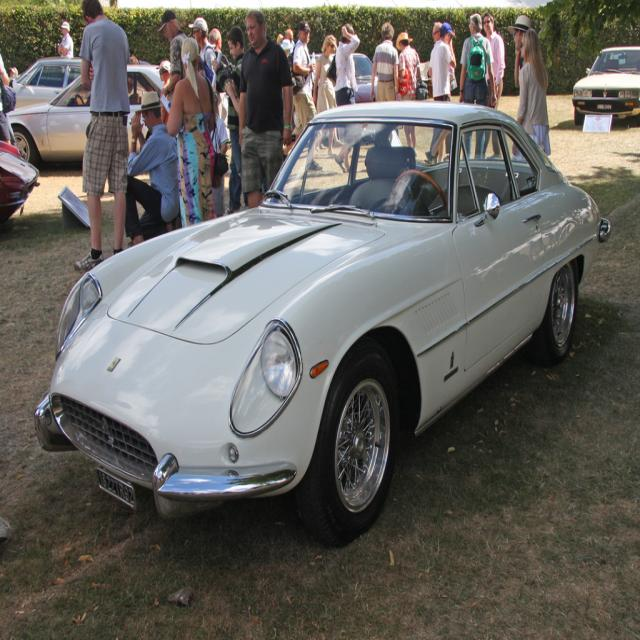car: (30, 92, 587, 534)
